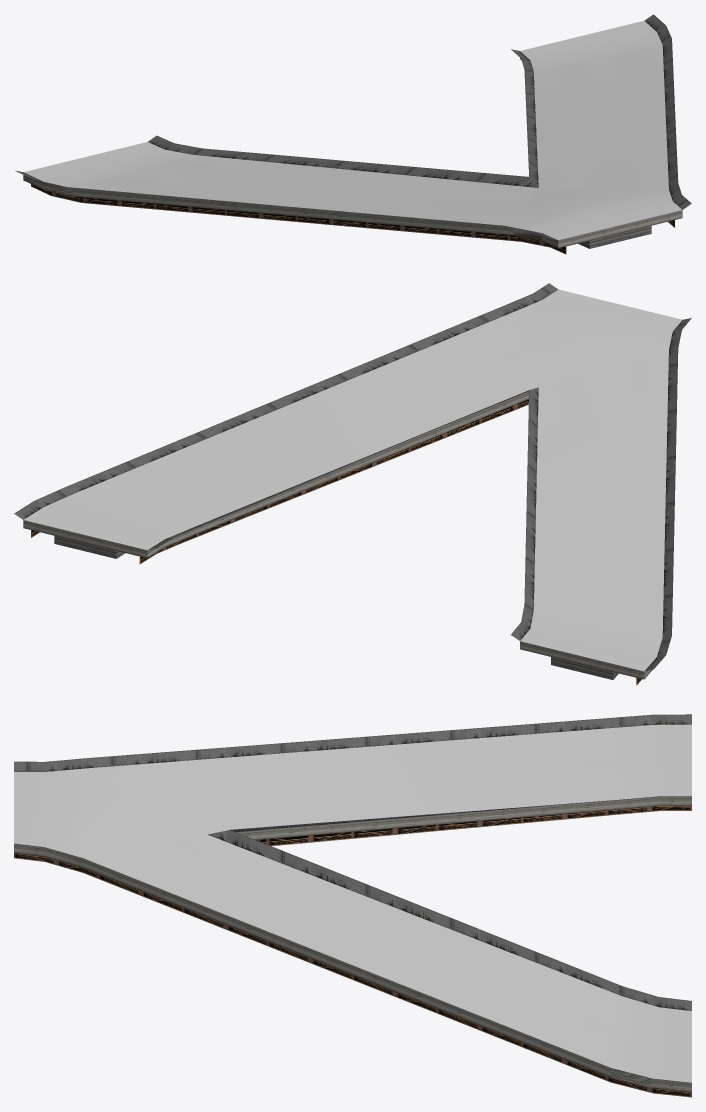
Rendered from ForkUp.fbx.
3 renders of one model, top to bottom at view 1: azimuth 30°, elevation 25°; view 2: azimuth 150°, elevation 25°; view 3: azimuth 270°, elevation 25°, orthographic. The views are drawn at different scales.
Parts seen in each view (by area): view 1: Empty_Mesh; view 2: Empty_Mesh; view 3: Empty_Mesh.
Boxes of the visible parts, x1,y1,x2,y2 form: Empty_Mesh: (15,14,691,254); Empty_Mesh: (14,283,691,685); Empty_Mesh: (14,714,691,1097).
Size of the model in its own units: 82.4 by 12.5 by 64.
